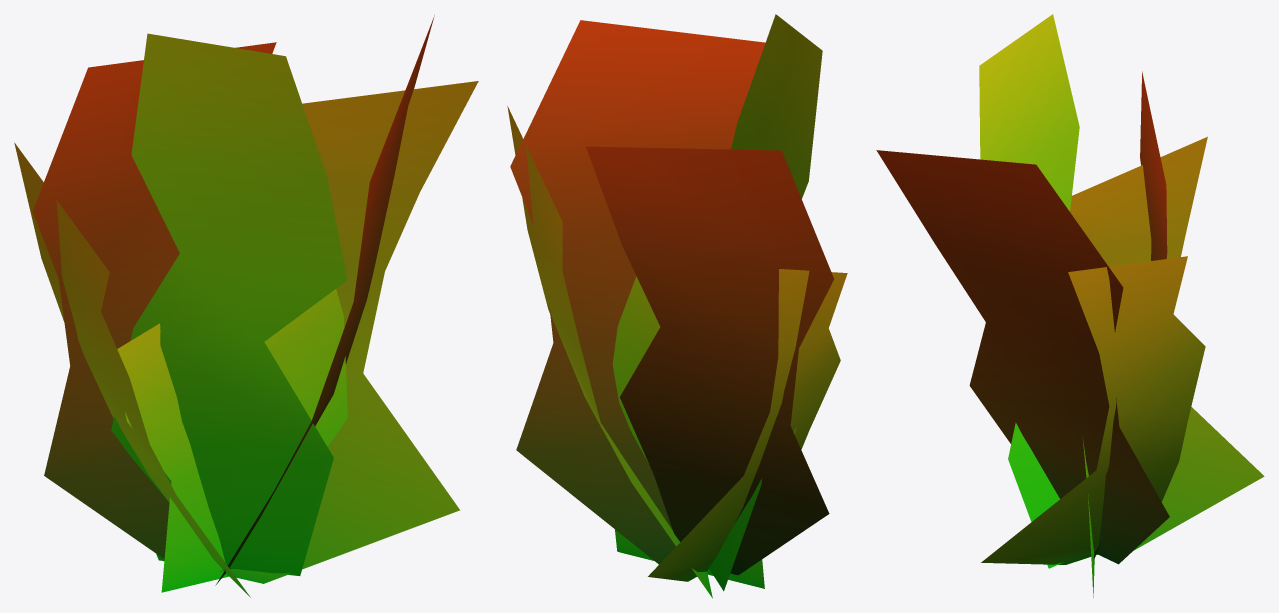
Rendered from Var8Hi19.fbx.
3 renders of one model, left to right at view 1: azimuth 30°, elevation 25°; view 2: azimuth 150°, elevation 25°; view 3: azimuth 270°, elevation 25°, orthographic. The views are drawn at different scales.
Visible parts, largest first — view 1: bend1; view 2: bend1; view 3: bend1.
Part boxes in pixels (bbox=[...]): bend1: bbox=[14, 15, 478, 597]; bend1: bbox=[507, 14, 847, 598]; bend1: bbox=[876, 14, 1264, 597].
Size of the model in its own units: 1.27 by 1.76 by 1.24.
